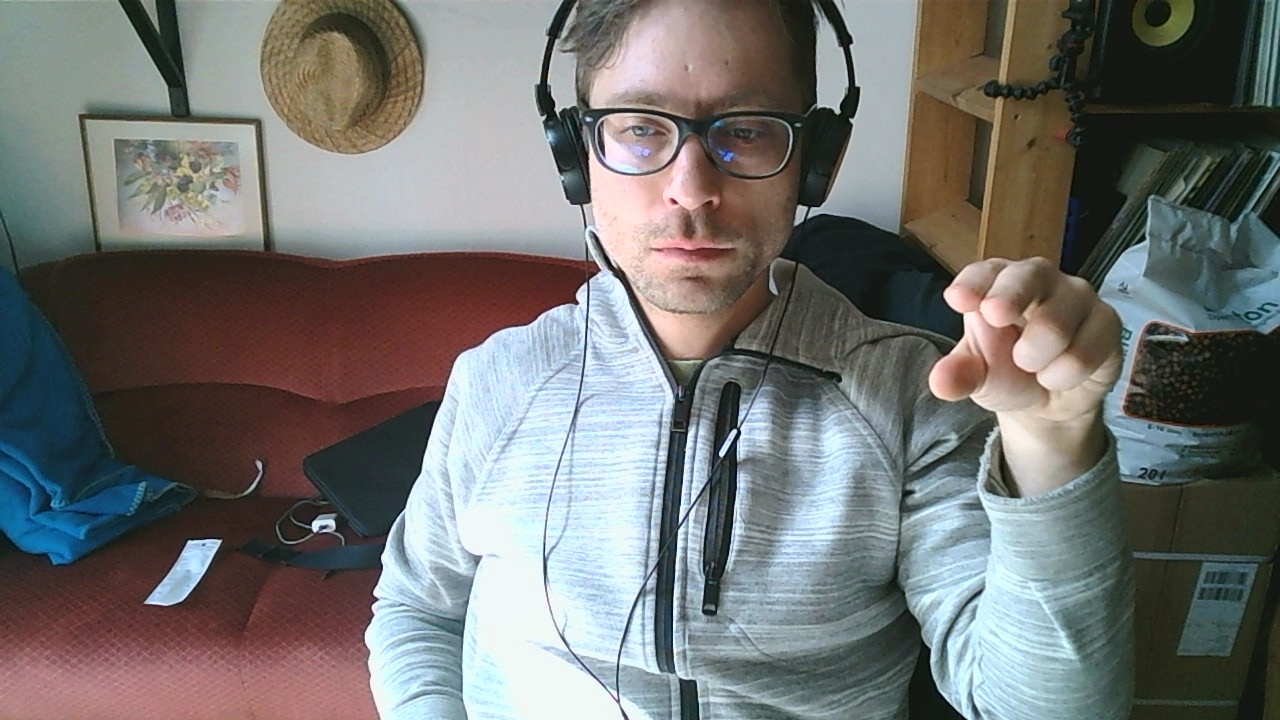no: (926, 255, 1123, 422)
